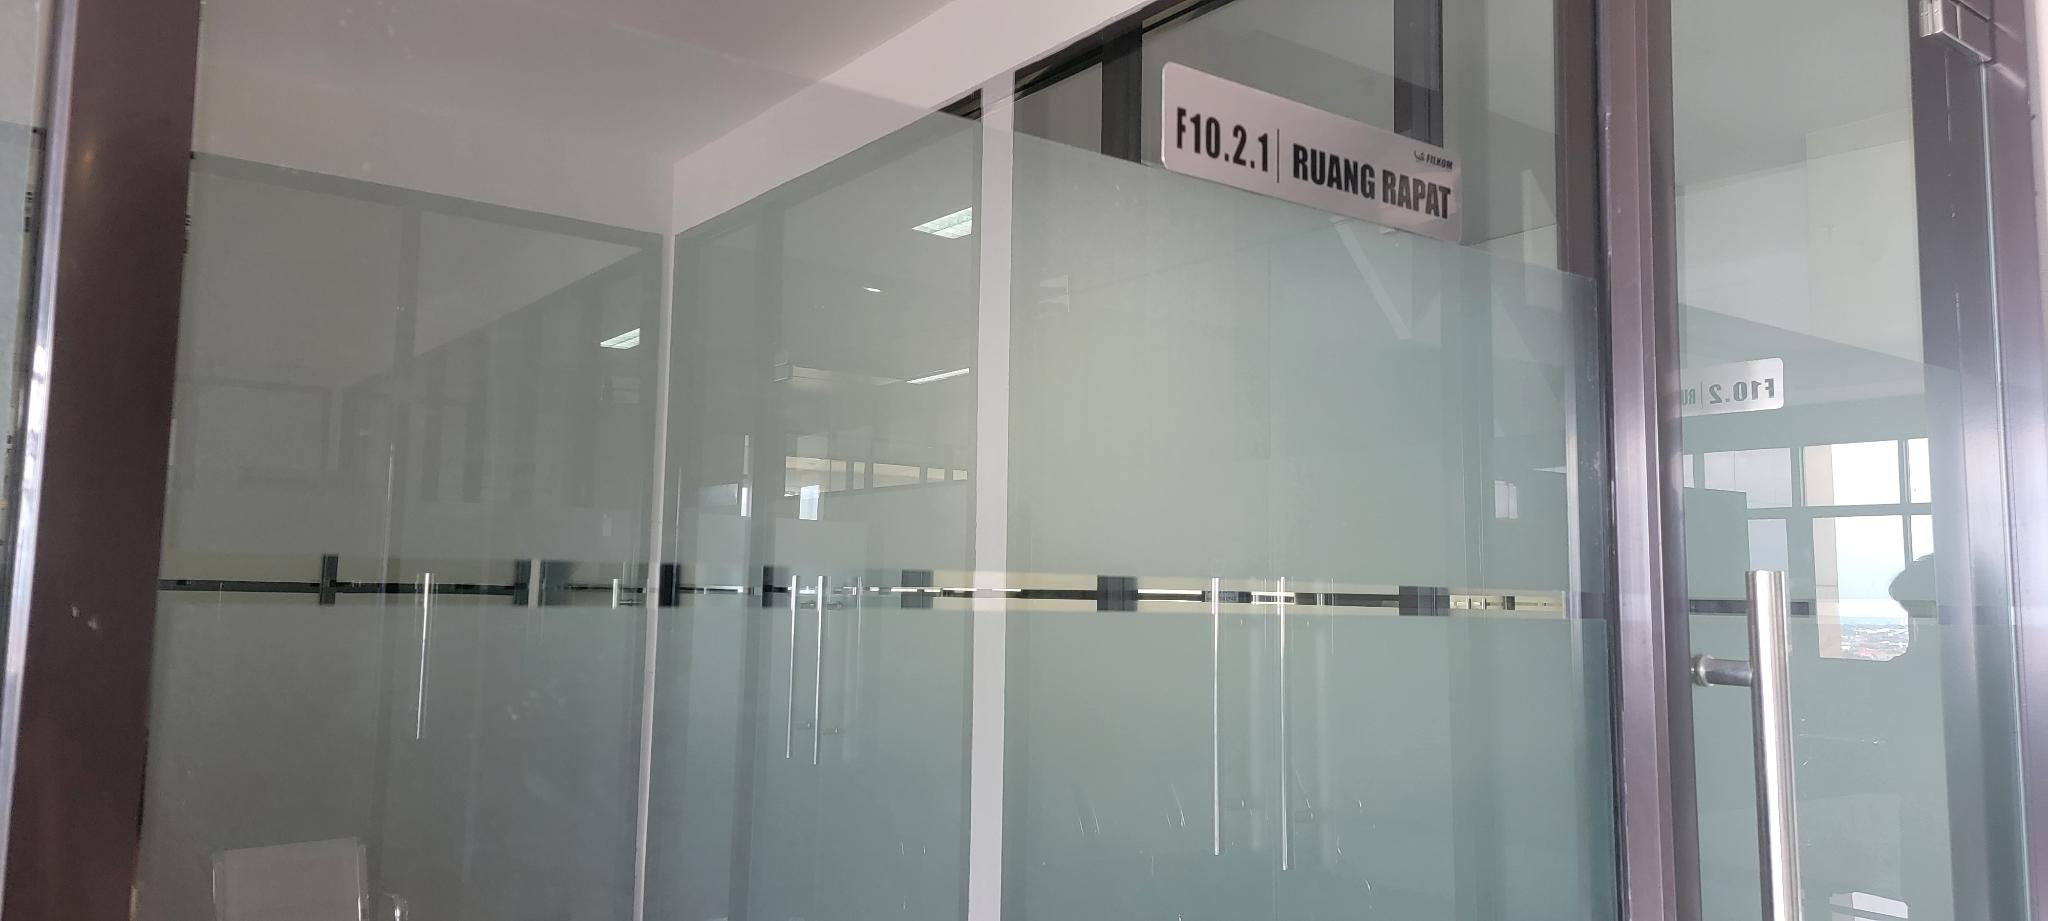plate: (1160, 60, 1465, 243)
